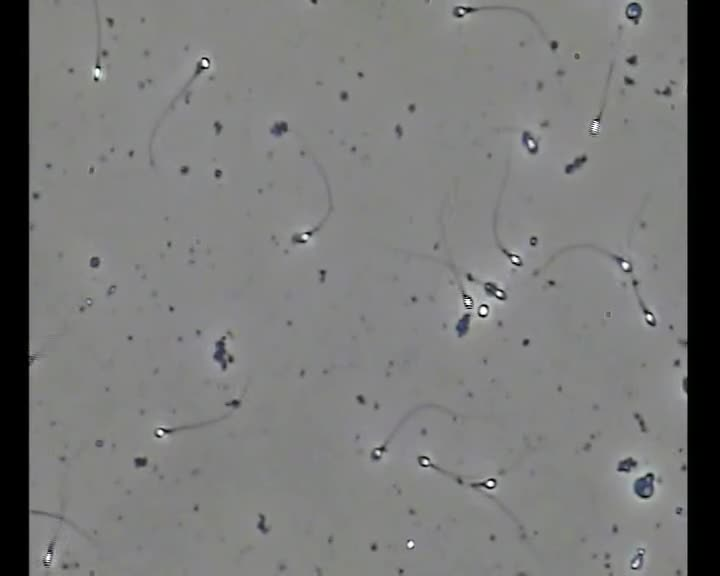spermhead: (633, 472, 654, 499), (521, 130, 538, 154), (455, 312, 471, 337), (625, 2, 642, 25), (291, 230, 312, 244), (452, 5, 473, 18), (42, 542, 55, 563), (616, 257, 632, 273), (630, 552, 643, 570), (507, 253, 523, 267), (643, 309, 656, 326), (91, 64, 103, 82), (370, 446, 385, 460), (79, 297, 94, 311), (153, 427, 171, 438), (464, 292, 475, 309), (479, 478, 496, 489), (593, 117, 603, 135), (417, 455, 431, 467), (477, 303, 489, 317), (483, 281, 495, 295), (225, 399, 241, 409), (198, 56, 210, 69), (494, 287, 505, 300), (635, 547, 645, 558), (548, 40, 557, 52), (455, 474, 464, 485), (406, 539, 415, 549), (29, 345, 33, 366), (683, 377, 687, 395)
